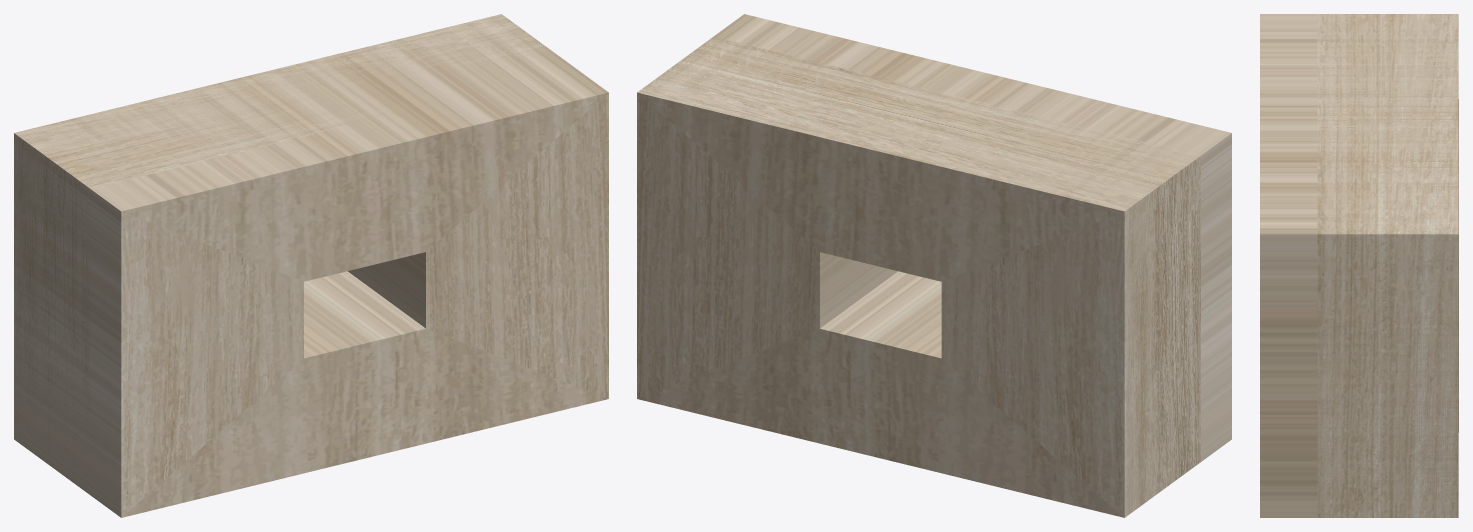
Rendered from modeling03.glb.
The picture shows the model from 3 angles, left to right: view 1: azimuth 30°, elevation 25°; view 2: azimuth 150°, elevation 25°; view 3: azimuth 270°, elevation 25°; orthographic projection. The views are drawn at different scales.
Visible parts, largest first — view 1: 큐브; view 2: 큐브; view 3: 큐브.
Part boxes in pixels (bbox=[...]): 큐브: bbox=[14, 14, 608, 517]; 큐브: bbox=[637, 14, 1231, 517]; 큐브: bbox=[1260, 14, 1458, 517].
Size of the model in its own units: 2 by 1.2 by 0.7626.
Materials: 1 (1 with a texture image).
